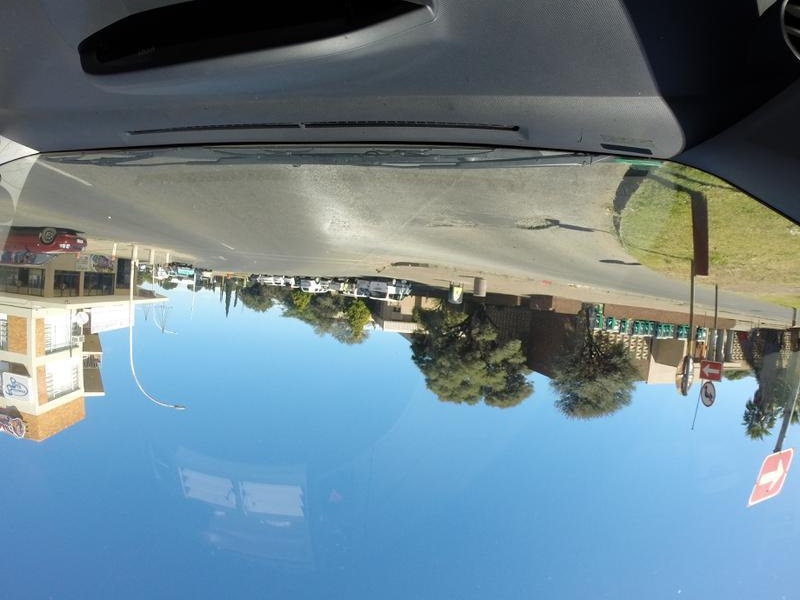pothole: (512, 214, 566, 234), (429, 216, 472, 229)
